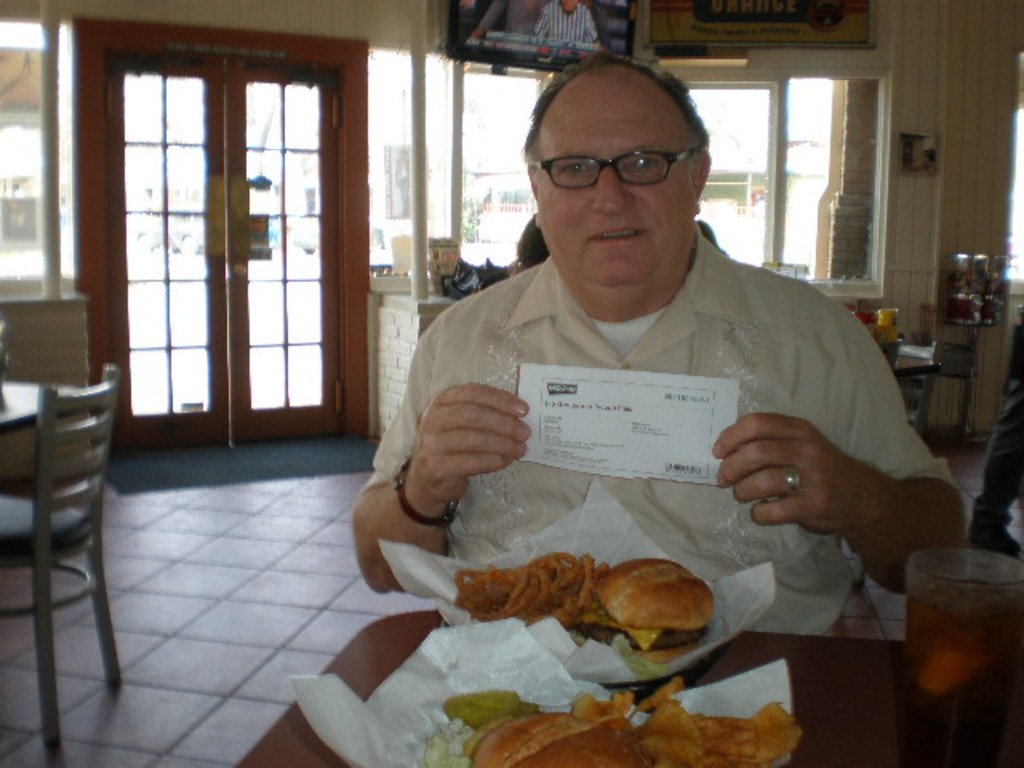Hamburger: (576, 560, 718, 662)
